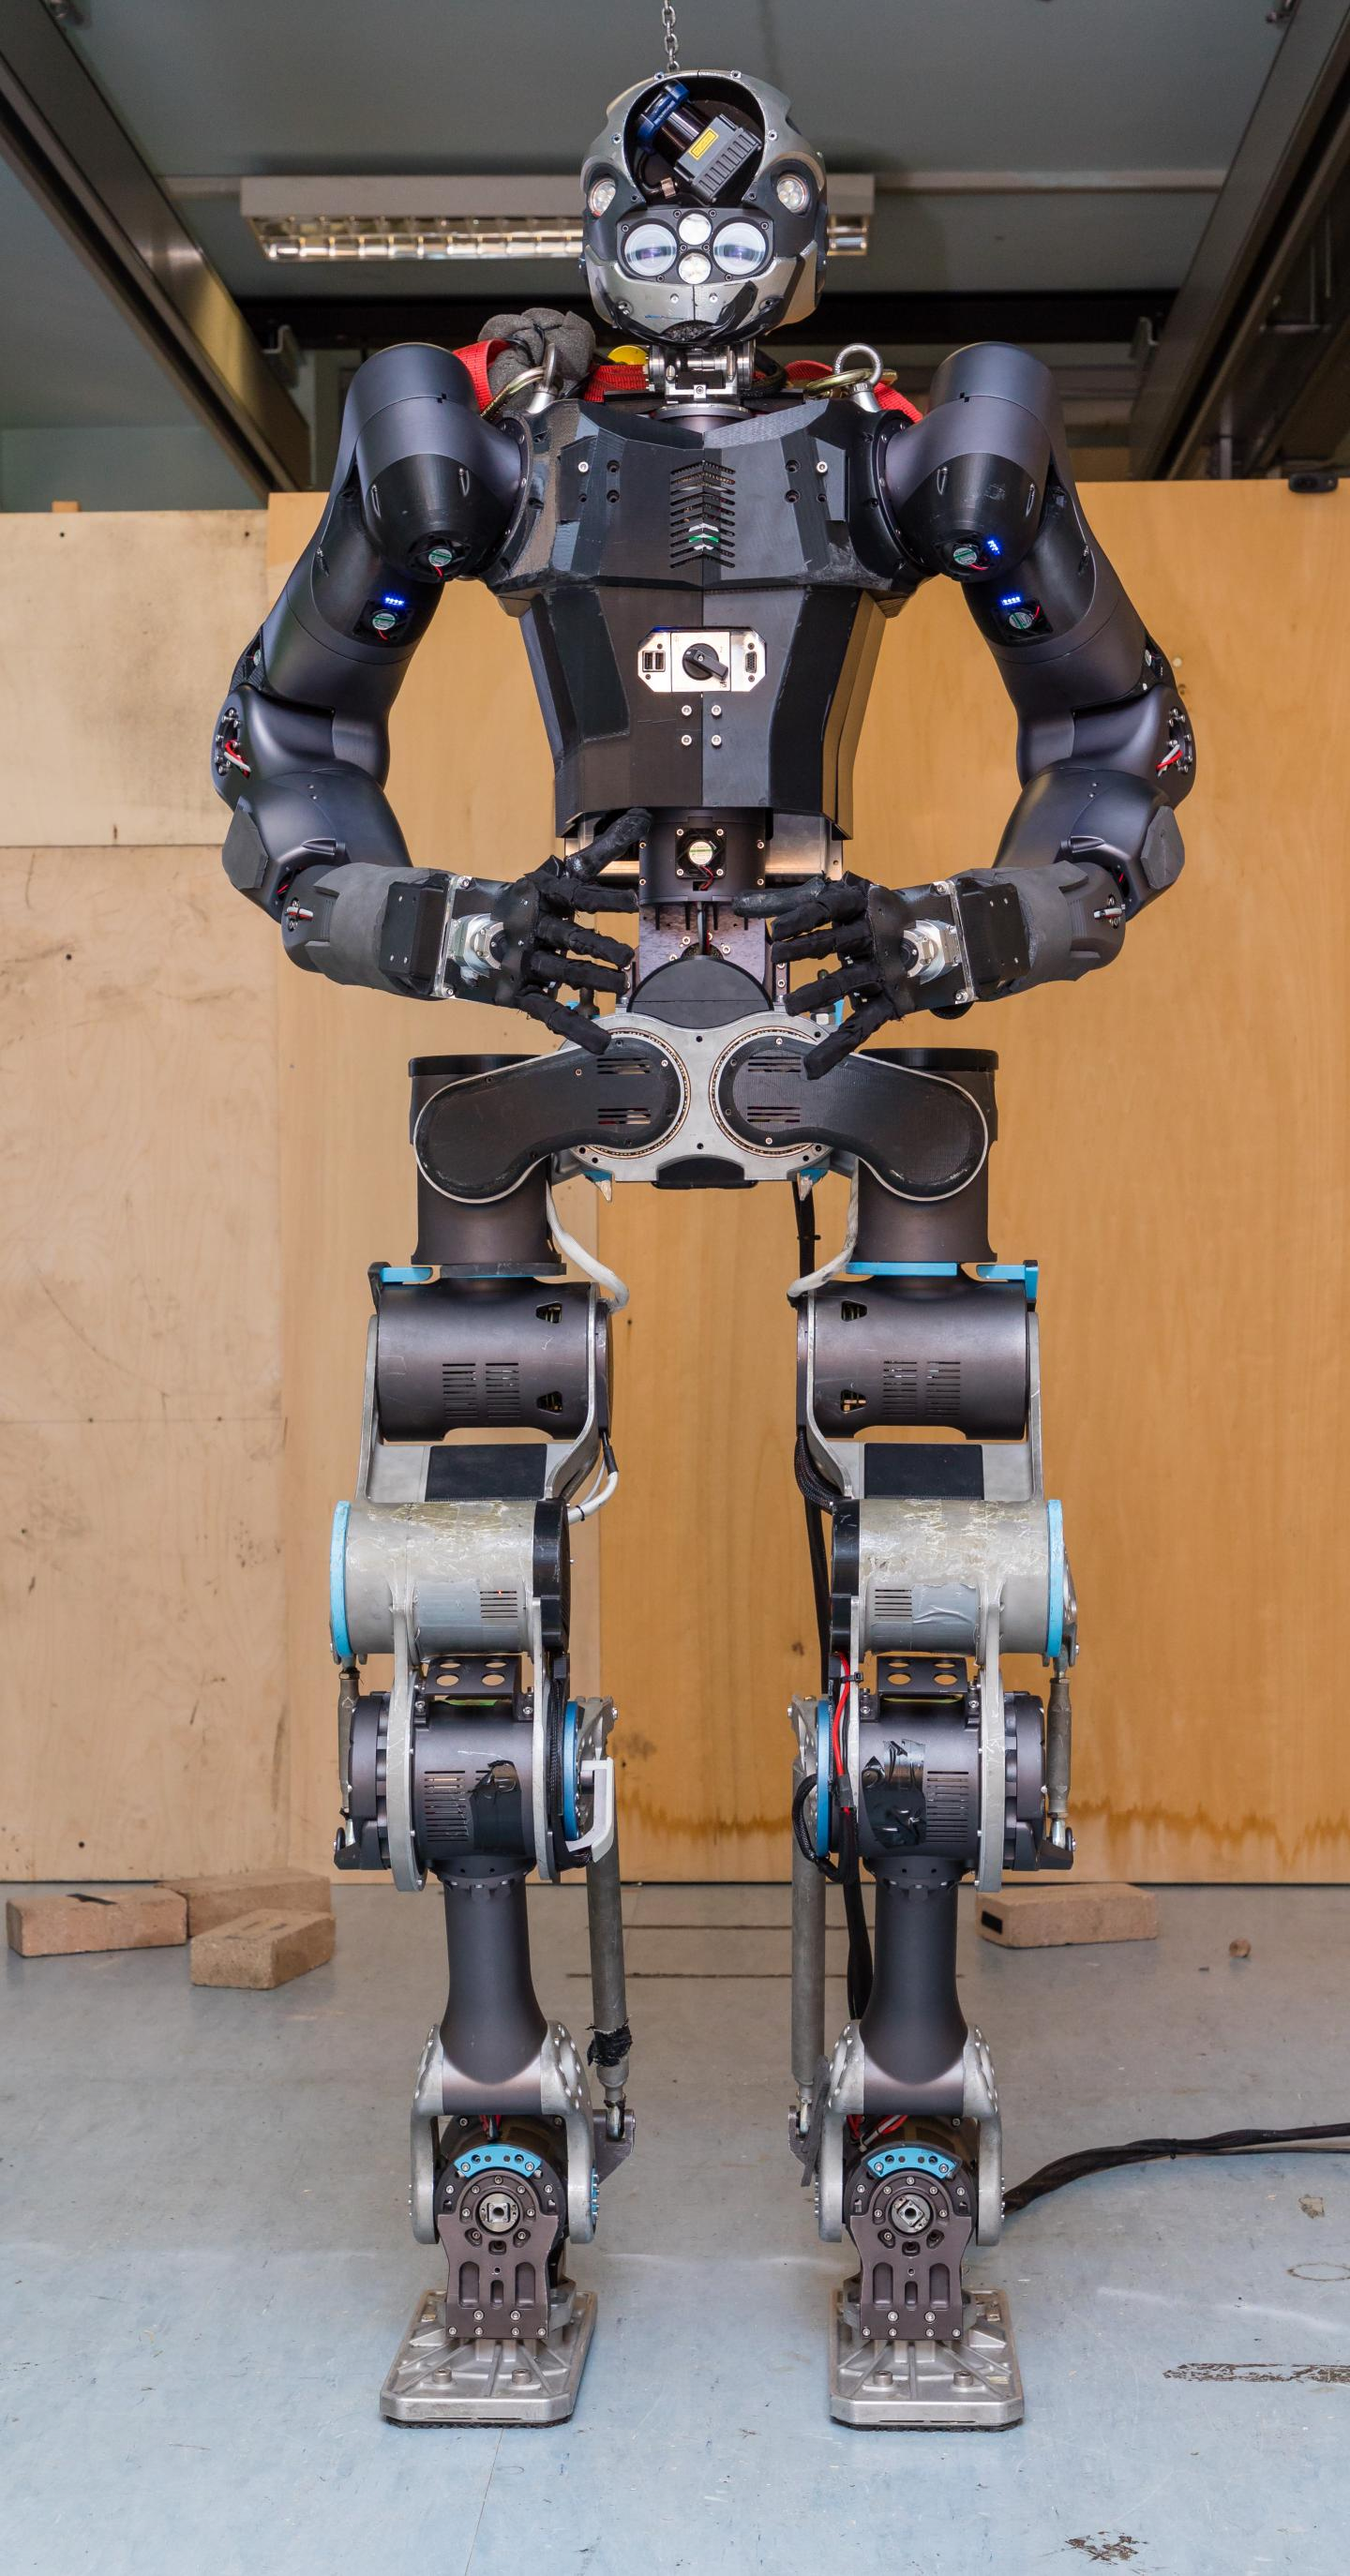person-like: (191, 50, 1217, 2452)
